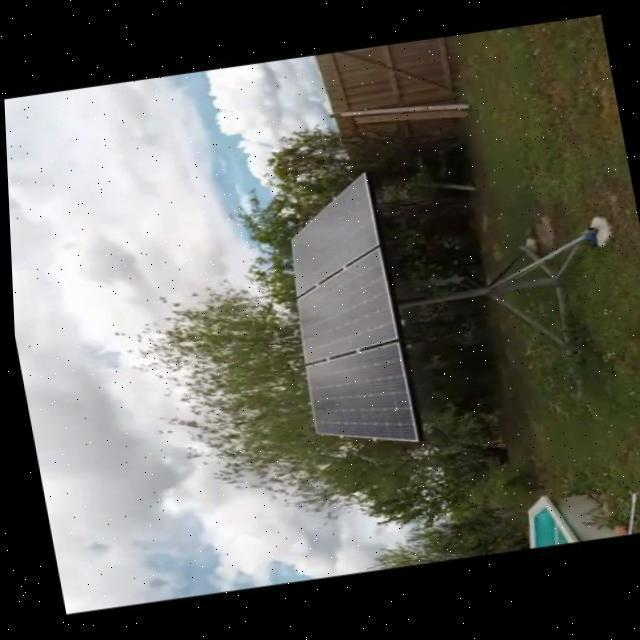Normal Solar Panel: (274, 172, 384, 294), (284, 247, 397, 362), (298, 342, 416, 452)
